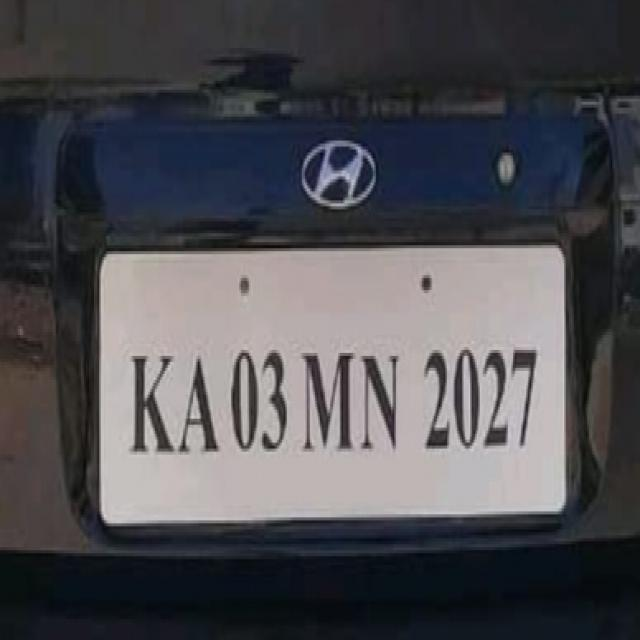0: (228, 342, 261, 454), (454, 342, 484, 456)
3: (256, 338, 299, 469)
7: (508, 331, 544, 449)
A: (178, 348, 221, 460)
K: (126, 348, 174, 462)
M: (300, 338, 356, 458)
N: (356, 342, 401, 455)
